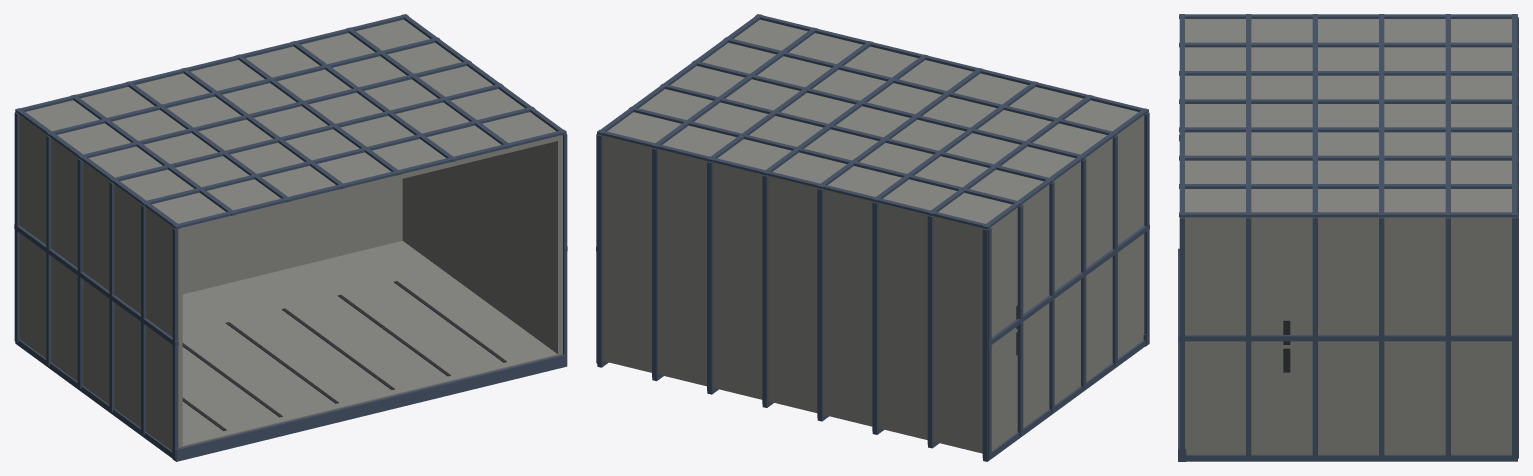
The model's file is ms1_shell.obj.
3 views of the same model, side by side, from view 1: azimuth 30°, elevation 25°; view 2: azimuth 150°, elevation 25°; view 3: azimuth 270°, elevation 25° (orthographic). The views are drawn at different scales.
Visible parts, largest first — view 1: ms1_shell; view 2: ms1_shell; view 3: ms1_shell.
Part boxes in pixels (x1=…): ms1_shell: x1=14, y1=14, x2=567, y2=461; ms1_shell: x1=596, y1=14, x2=1149, y2=461; ms1_shell: x1=1178, y1=14, x2=1518, y2=461.
Size of the model in its own units: 7 by 4 by 5.
